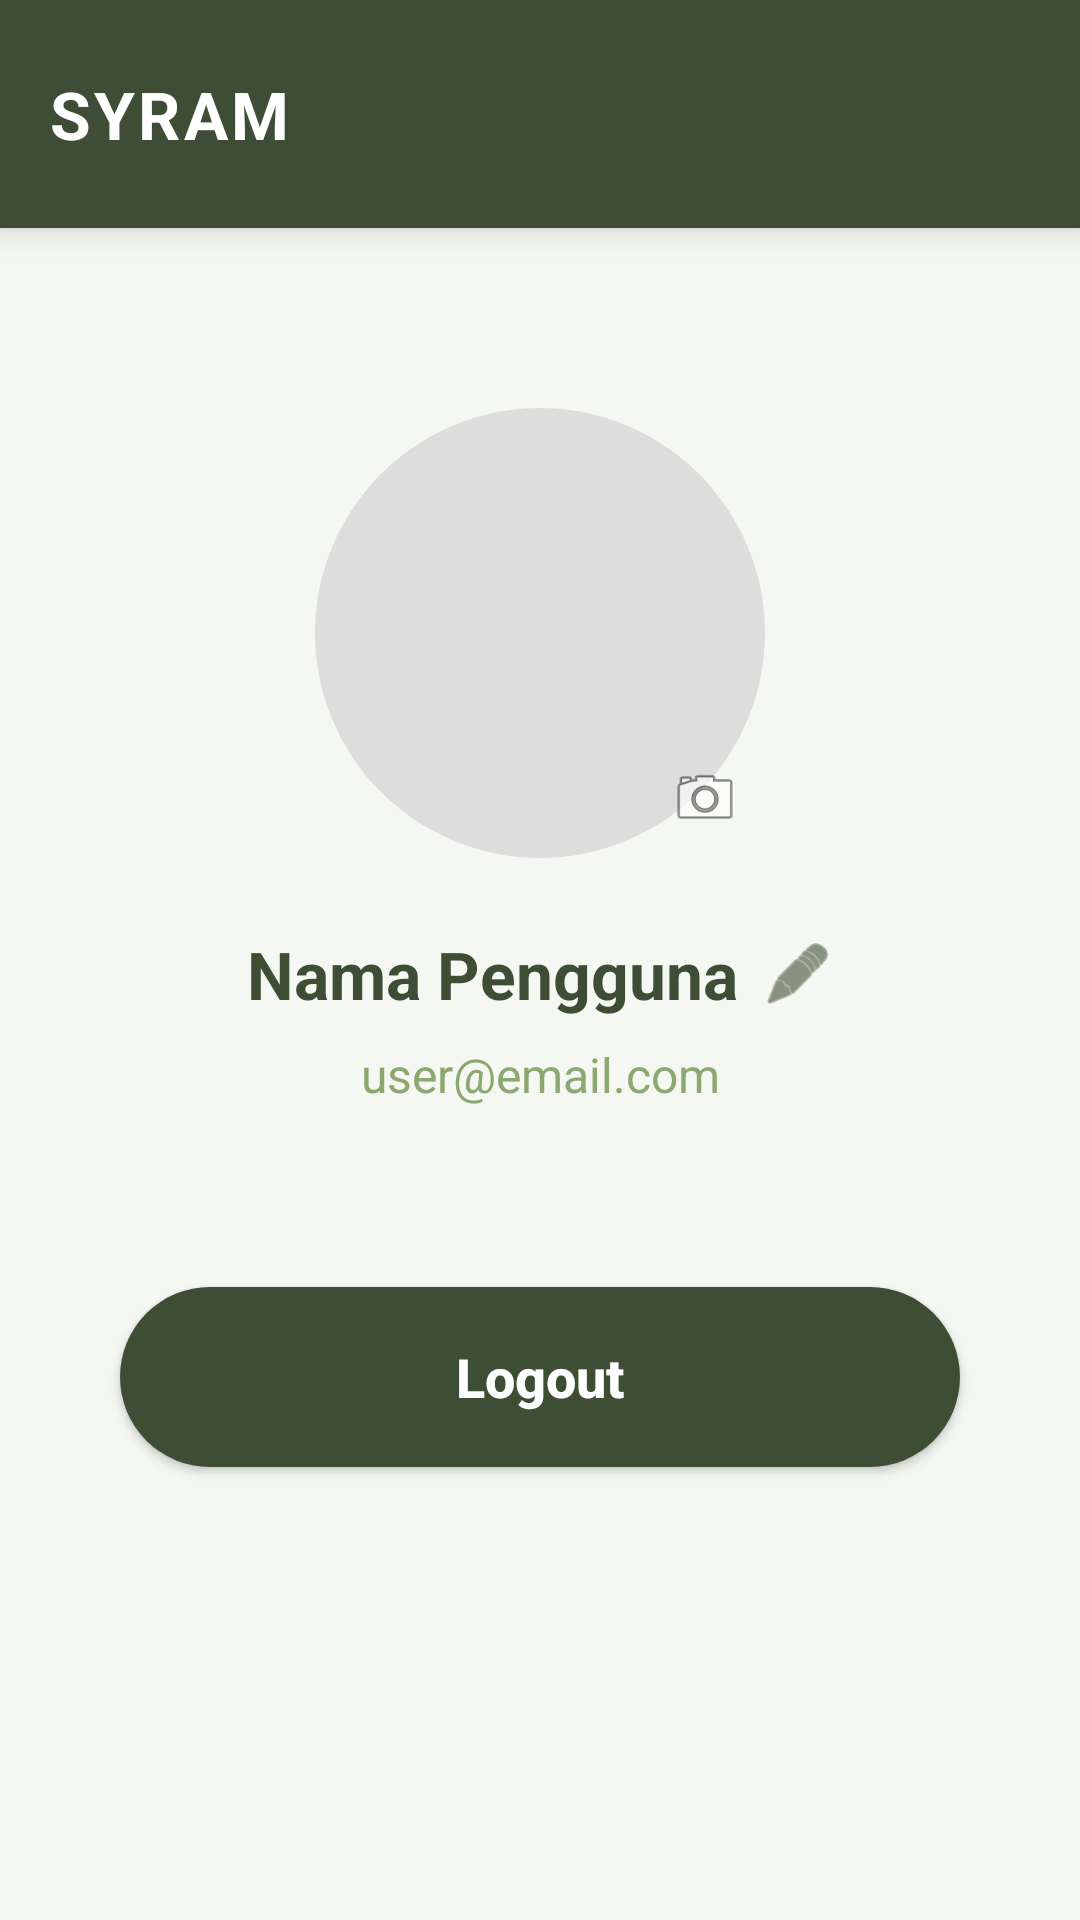

Named icons in this screenshot (1080*1920) and their centers, (x=x, y=y):
edit: (x=797, y=973)
